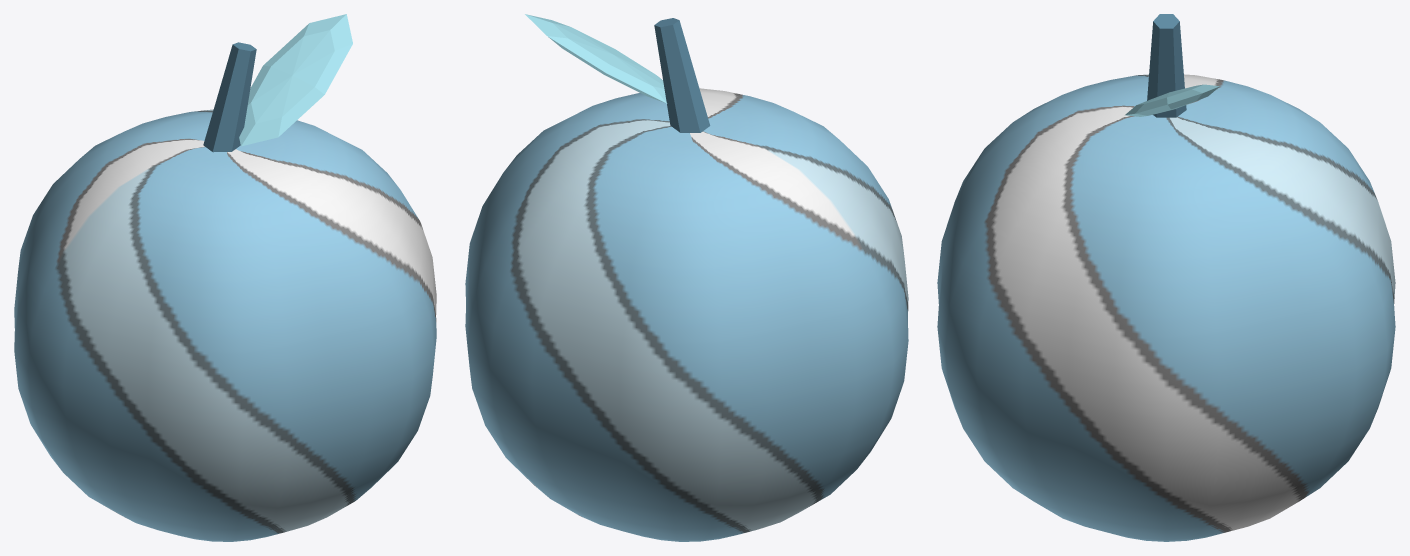
The model's file is Fruit_Glass.fbx.
3 renders of one model, left to right at view 1: azimuth 30°, elevation 25°; view 2: azimuth 150°, elevation 25°; view 3: azimuth 270°, elevation 25°, orthographic. The views are drawn at different scales.
Parts seen in each view (by area): view 1: Fruit_Glass; view 2: Fruit_Glass; view 3: Fruit_Glass.
Boxes of the visible parts, x1,y1,x2,y2 form: Fruit_Glass: [14, 14, 436, 541]; Fruit_Glass: [465, 14, 908, 541]; Fruit_Glass: [937, 14, 1395, 541].
Size of the model in its own units: 1.66 by 1.9 by 1.55.
Materials: 1 (1 with a texture image).
